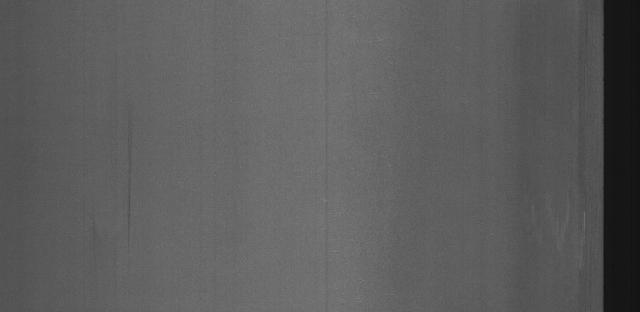silk_spot: (537, 183, 592, 266)
